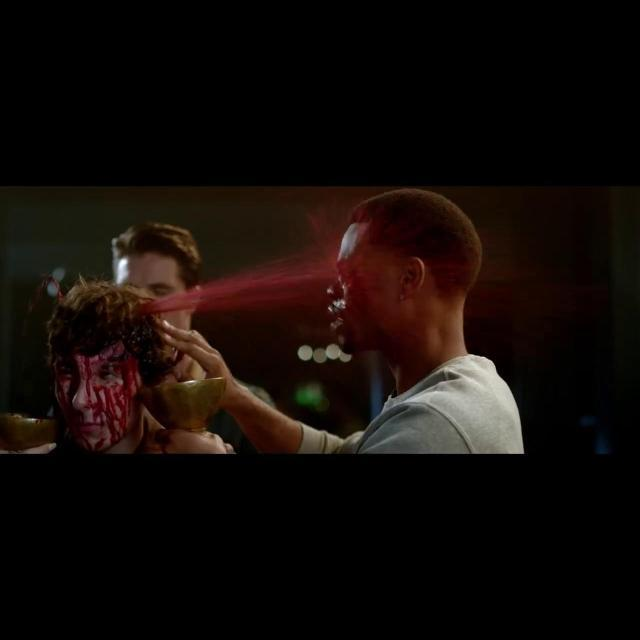blood: (90, 210, 347, 384), (54, 342, 143, 454), (20, 275, 62, 336)
